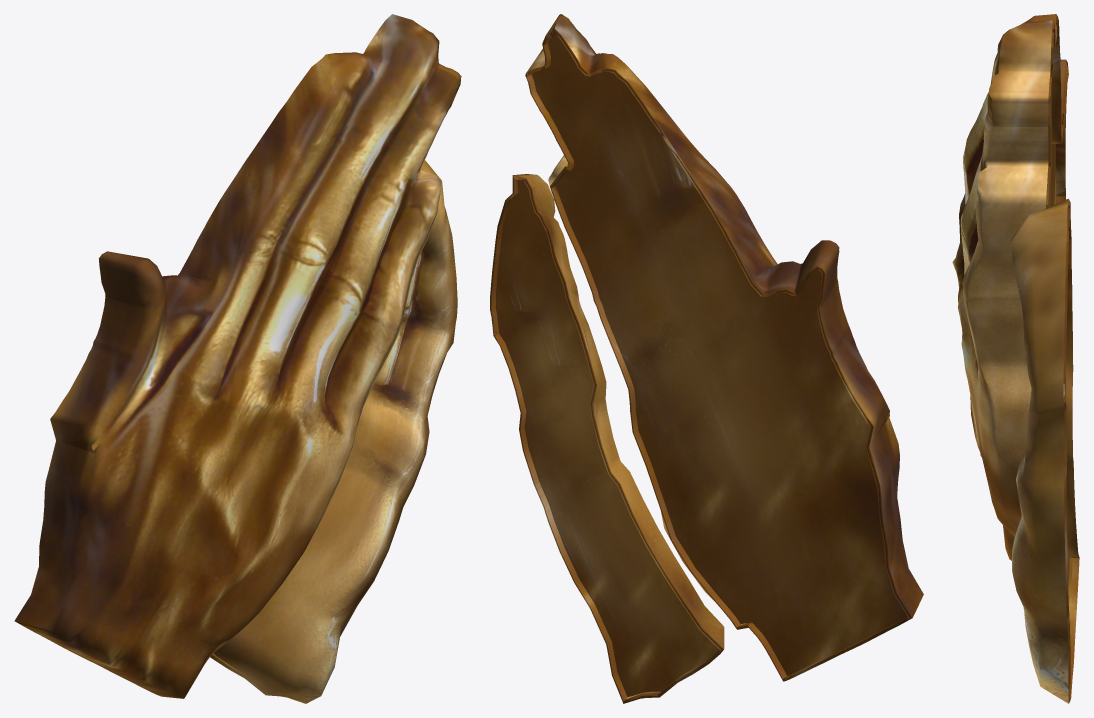
Rendered from Art2497.fbx.
The picture shows the model from 3 angles, left to right: view 1: azimuth 30°, elevation 25°; view 2: azimuth 150°, elevation 25°; view 3: azimuth 270°, elevation 25°; orthographic projection. The views are drawn at different scales.
Parts seen in each view (by area): view 1: Mesh; view 2: Mesh; view 3: Mesh.
Boxes of the visible parts, bbox=[...] form: Mesh: bbox=[14, 14, 461, 703]; Mesh: bbox=[490, 14, 923, 703]; Mesh: bbox=[952, 14, 1079, 703].
Bounding box in the file's own units: 10.2 × 15.13 × 2.4.
1 material, 1 textured.
